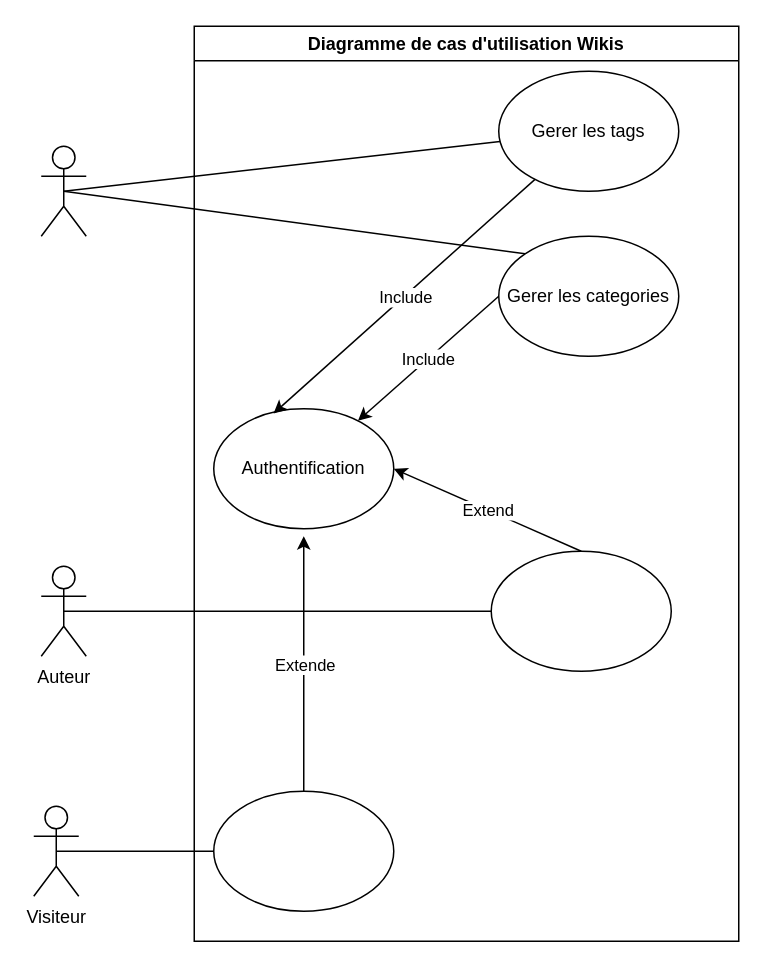
The diagram is 765 pixels wide and 968 high, and some of its shapes have lost their labels. The centre of each missing label's shape, as x and y in pixels:
"Admin" belongs at (63,190).
"Consulter les wikis" belongs at (303,850).
"Gerer les wikis" belongs at (580,610).
